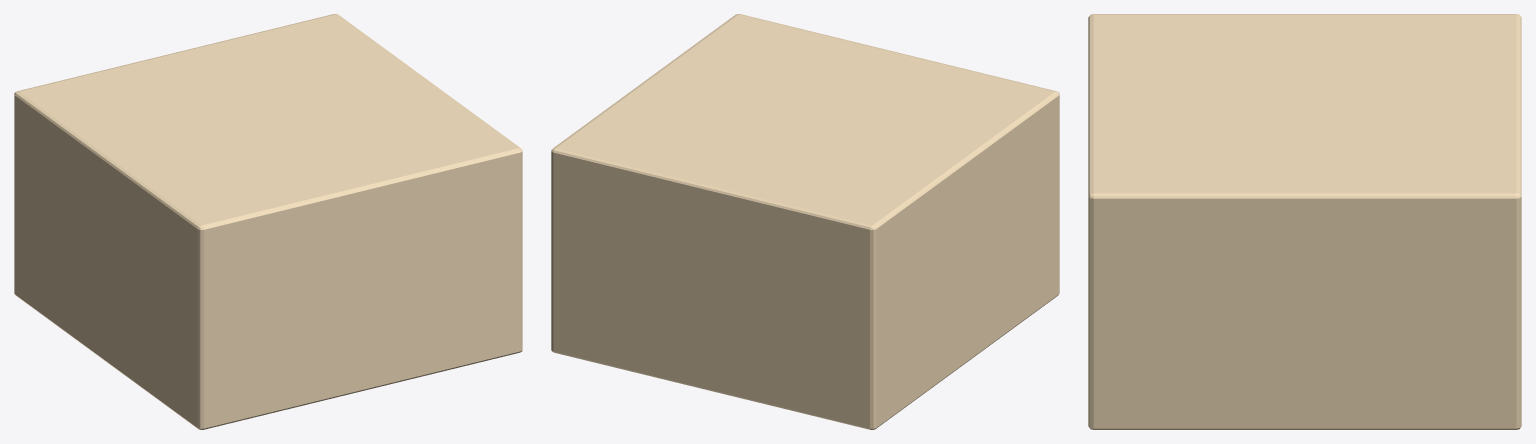
Rendered from toys_wood block_small.fbx.
3 renders of one model, left to right at view 1: azimuth 30°, elevation 25°; view 2: azimuth 150°, elevation 25°; view 3: azimuth 270°, elevation 25°, orthographic. The views are drawn at different scales.
Visible parts, largest first — view 1: Cube; view 2: Cube; view 3: Cube.
Boxes of the visible parts, bbox=[...] form: Cube: bbox=[14, 14, 522, 429]; Cube: bbox=[551, 14, 1059, 429]; Cube: bbox=[1088, 14, 1521, 429].
Size of the model in its own units: 100 by 60 by 100.
